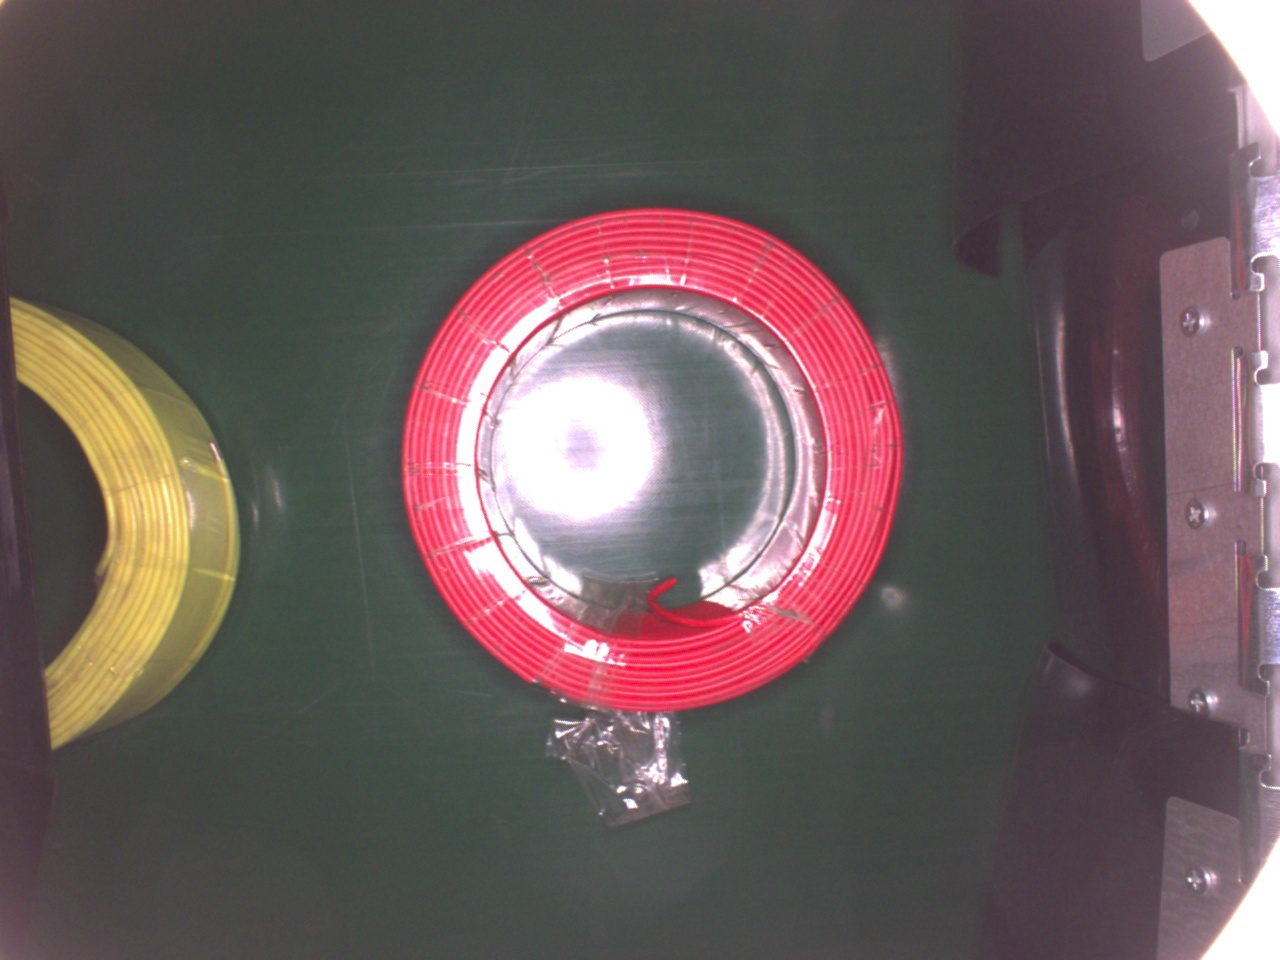red: (401, 204, 909, 715)
yellow: (8, 293, 241, 750)
